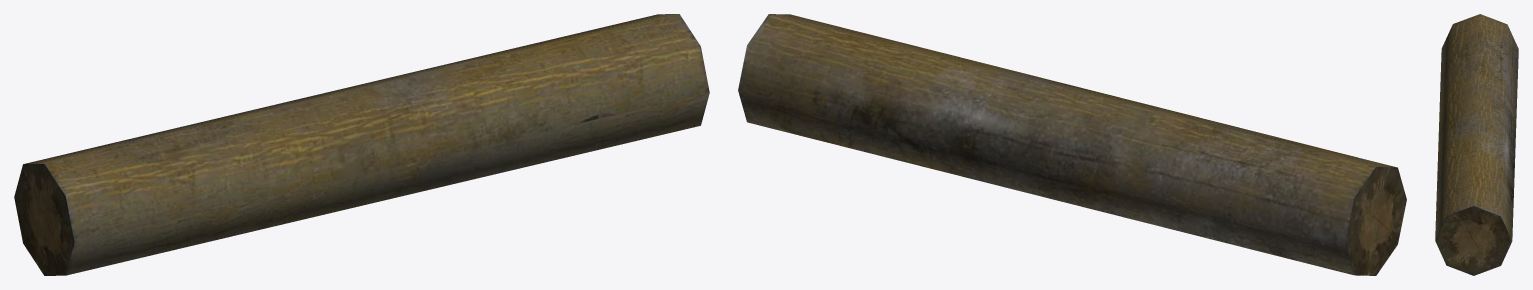
3 views of the same model, side by side, from view 1: azimuth 30°, elevation 25°; view 2: azimuth 150°, elevation 25°; view 3: azimuth 270°, elevation 25° (orthographic). The views are drawn at different scales.
Parts seen in each view (by area): view 1: SW_C_lo; view 2: SW_C_lo; view 3: SW_C_lo.
Boxes of the visible parts, x1,y1,x2,y2 form: SW_C_lo: (14, 14, 709, 275); SW_C_lo: (738, 14, 1406, 275); SW_C_lo: (1435, 14, 1518, 275).
Bounding box in the file's own units: 1.24 × 0.21 × 0.2275.
1 material, 1 textured.
